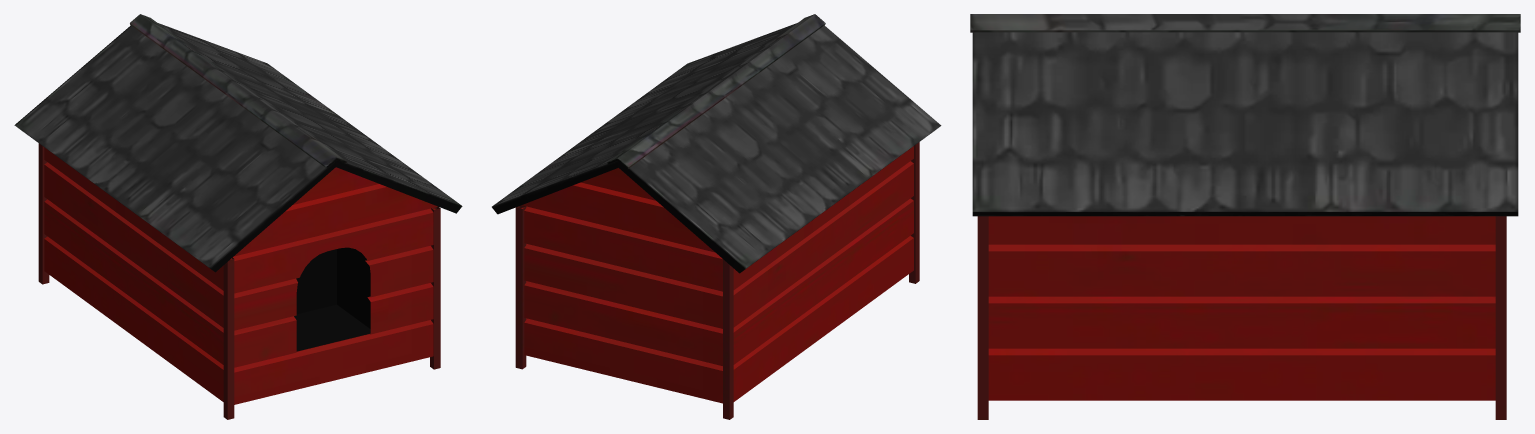
The model's file is house6.glb.
3 views of the same model, side by side, from view 1: azimuth 30°, elevation 25°; view 2: azimuth 150°, elevation 25°; view 3: azimuth 270°, elevation 25° (orthographic). The views are drawn at different scales.
Bounding box in the file's own units: 1.08 × 0.9733 × 1.46.
Materials: 1 (1 with a texture image).
